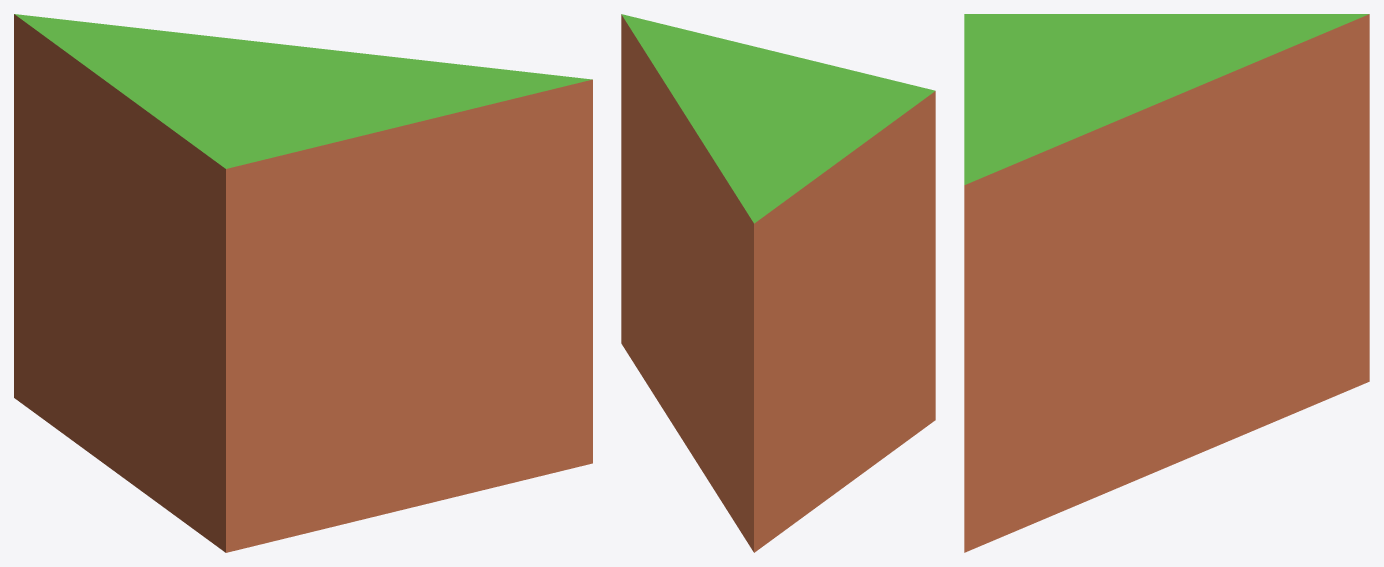
The model's file is cliff_blockDiagonal_rock.glb.
The picture shows the model from 3 angles, left to right: view 1: azimuth 30°, elevation 25°; view 2: azimuth 150°, elevation 25°; view 3: azimuth 270°, elevation 25°; orthographic projection. The views are drawn at different scales.
Parts seen in each view (by area): view 1: cliff_blockDiagonal_rock; view 2: cliff_blockDiagonal_rock; view 3: cliff_blockDiagonal_rock.
Boxes of the visible parts, <box> form: cliff_blockDiagonal_rock: <box>14,14,592,552</box>; cliff_blockDiagonal_rock: <box>621,14,935,552</box>; cliff_blockDiagonal_rock: <box>964,14,1369,552</box>.
Bounding box in the file's own units: 1 × 1 × 1.
